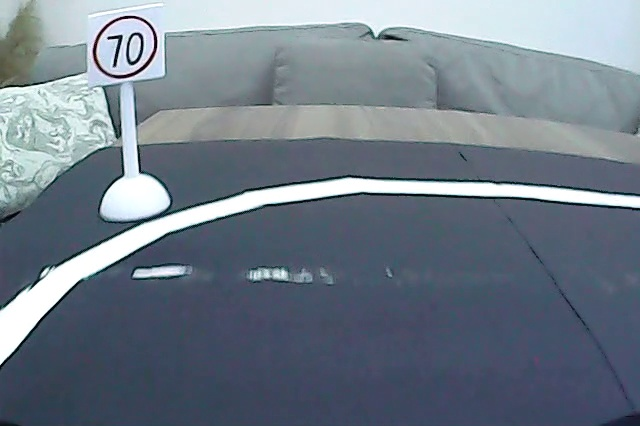speed limit 70: (90, 13, 161, 82)
